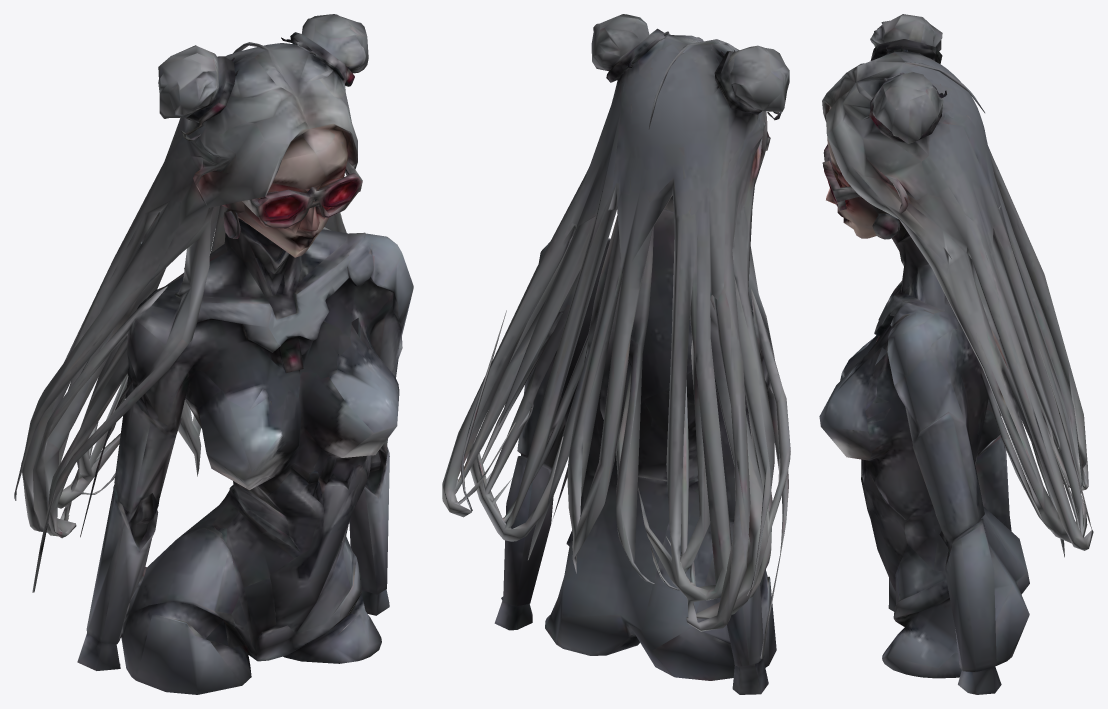
Rendered from girl.glb.
The picture shows the model from 3 angles, left to right: view 1: azimuth 30°, elevation 25°; view 2: azimuth 150°, elevation 25°; view 3: azimuth 270°, elevation 25°; orthographic projection. The views are drawn at different scales.
Visible parts, largest first — view 1: material; view 2: material; view 3: material.
Boxes of the visible parts, x1,y1,x2,y2 form: material: [14, 14, 413, 694]; material: [442, 14, 790, 694]; material: [819, 14, 1093, 694].
Bounding box in the file's own units: 0.5802 × 1.06 × 0.4574.
Materials: 1 (1 with a texture image).
